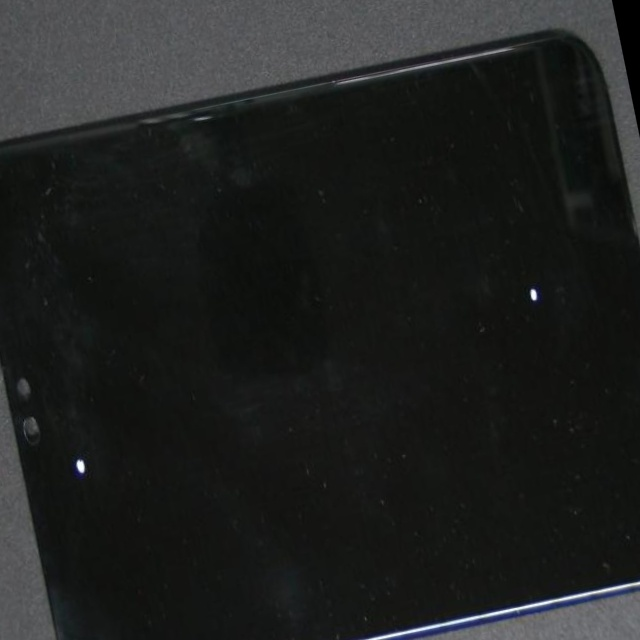stain: (215, 33, 640, 504), (0, 185, 173, 640)
